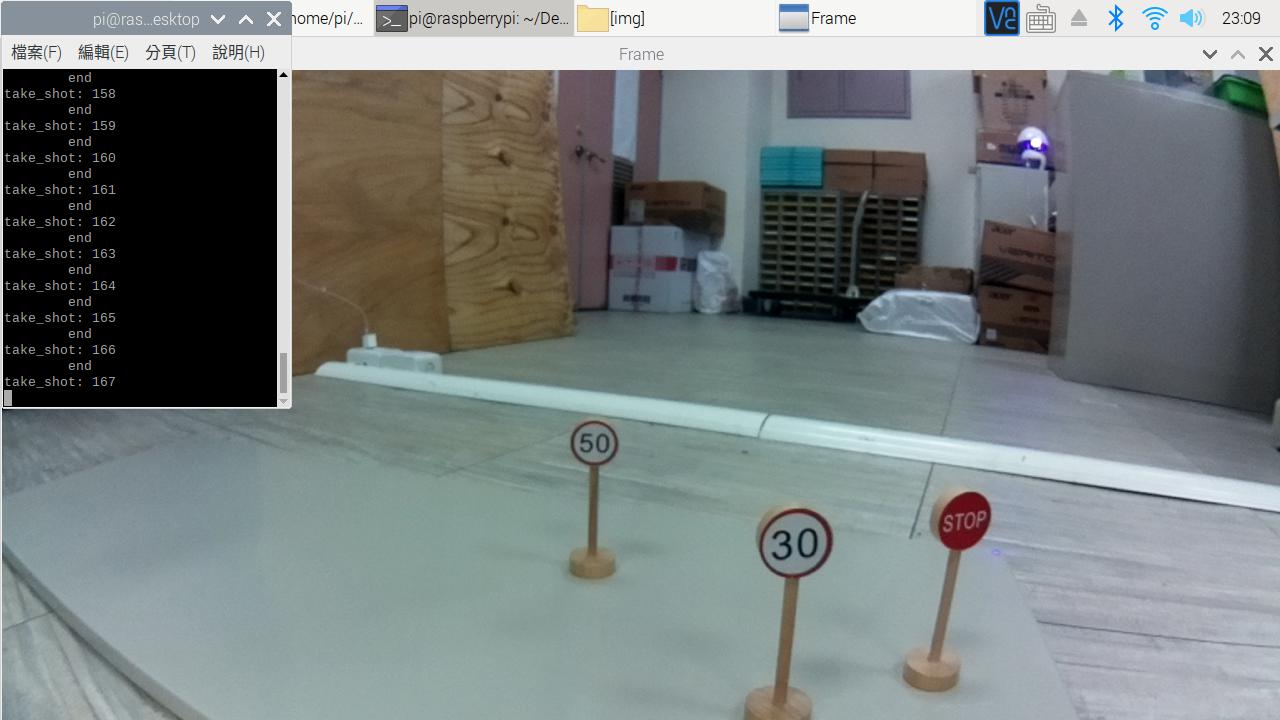Speed30: (748, 496, 852, 591)
Speed50: (570, 412, 629, 469)
Stop: (922, 479, 1000, 565)
